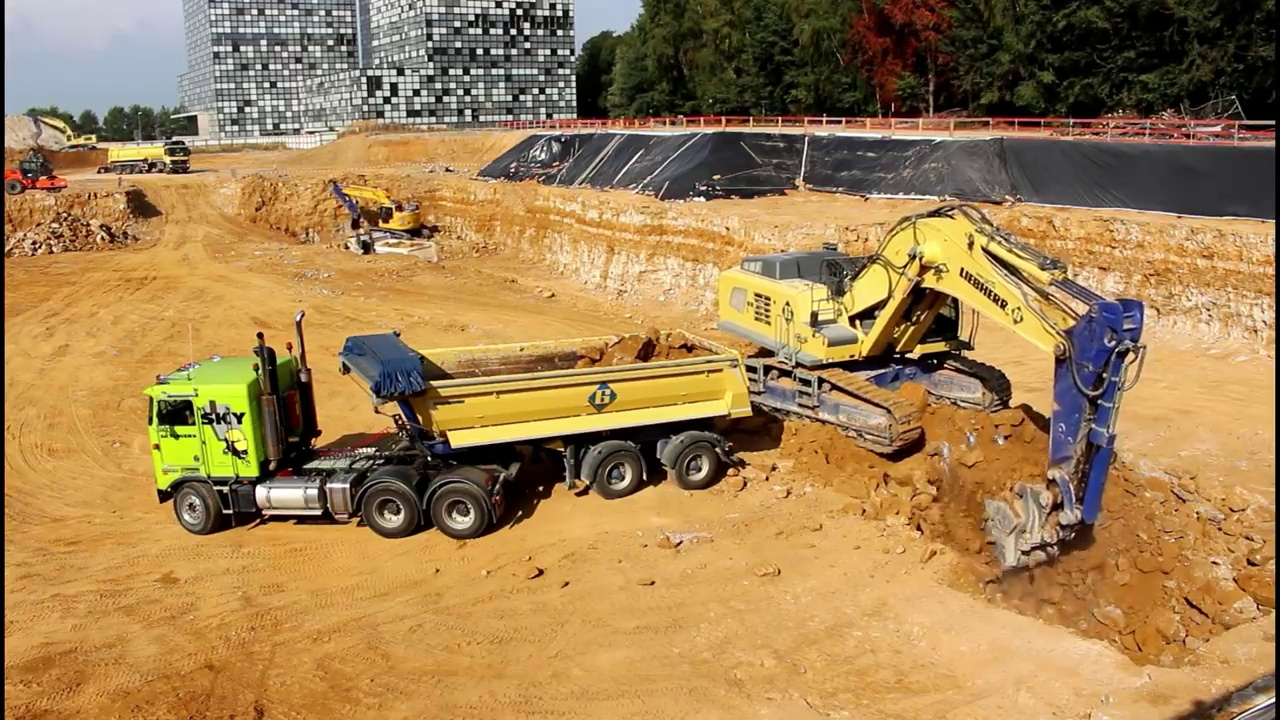compactor: (1, 152, 67, 200)
excavator: (698, 195, 1154, 581), (322, 174, 442, 254), (23, 107, 99, 155)
truck: (139, 305, 759, 545), (342, 221, 445, 286), (98, 137, 197, 182)
